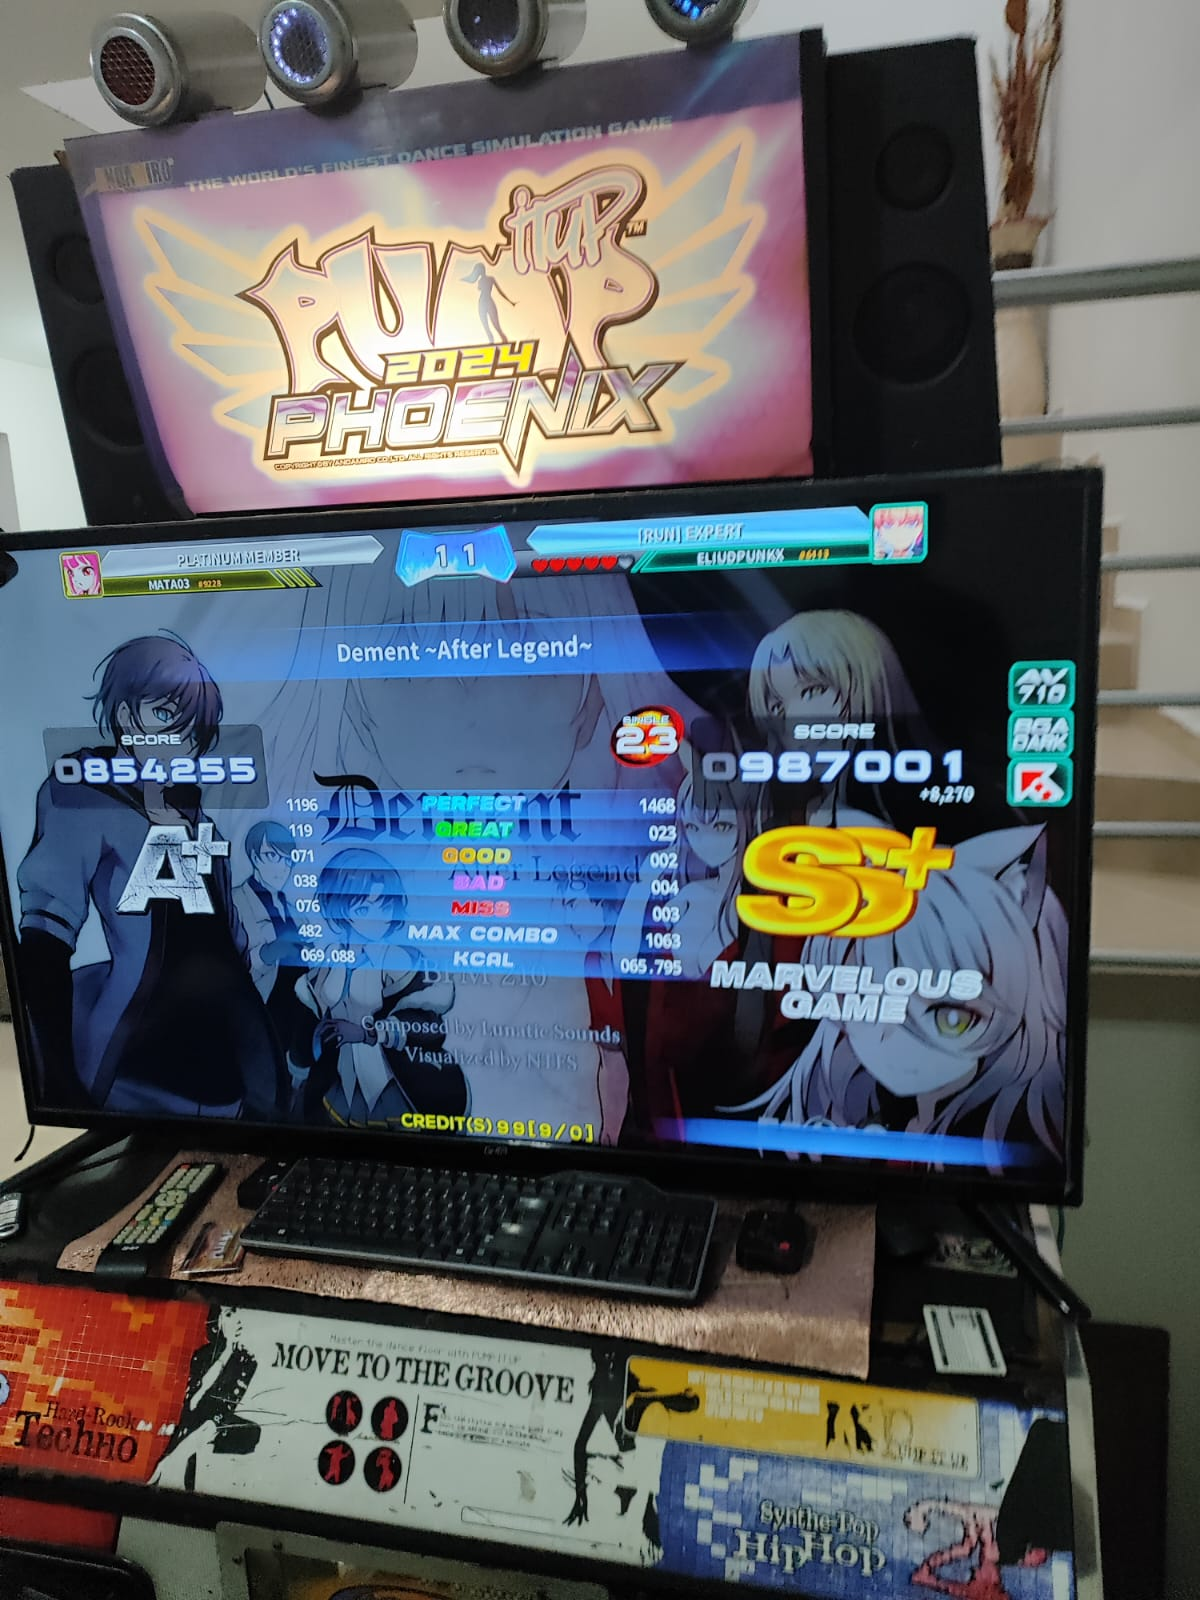difficulty: (596, 704, 695, 760)
fullscore: (183, 498, 1176, 1211)
rank: (747, 808, 943, 937)
score: (695, 723, 1001, 805)
song_name: (279, 610, 620, 680)
